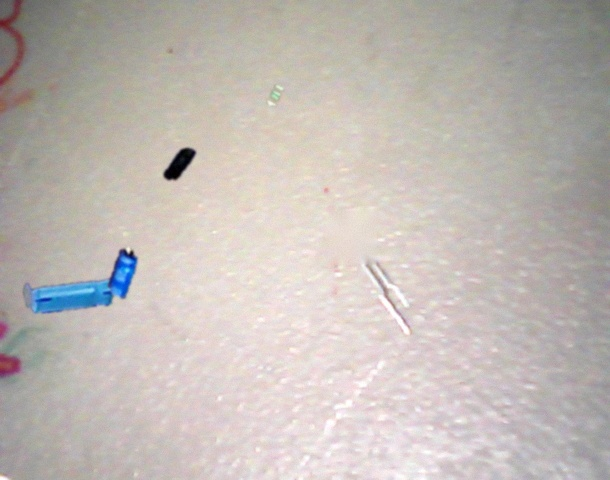capacitor: (24, 279, 115, 314), (107, 246, 138, 299), (163, 147, 196, 180)
resistor: (267, 85, 284, 106)
